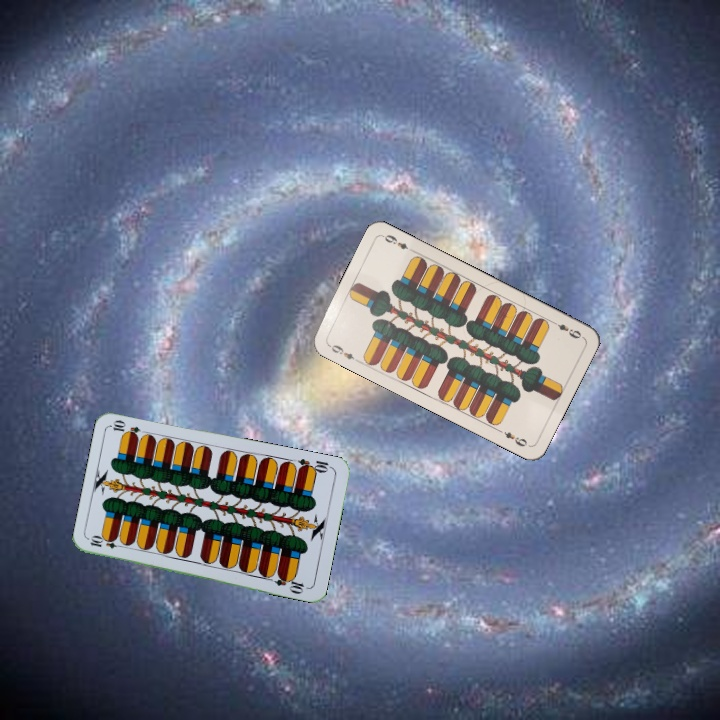E10: (294, 455, 335, 476), (86, 534, 127, 551)
E9: (324, 340, 362, 365), (548, 316, 584, 341)
